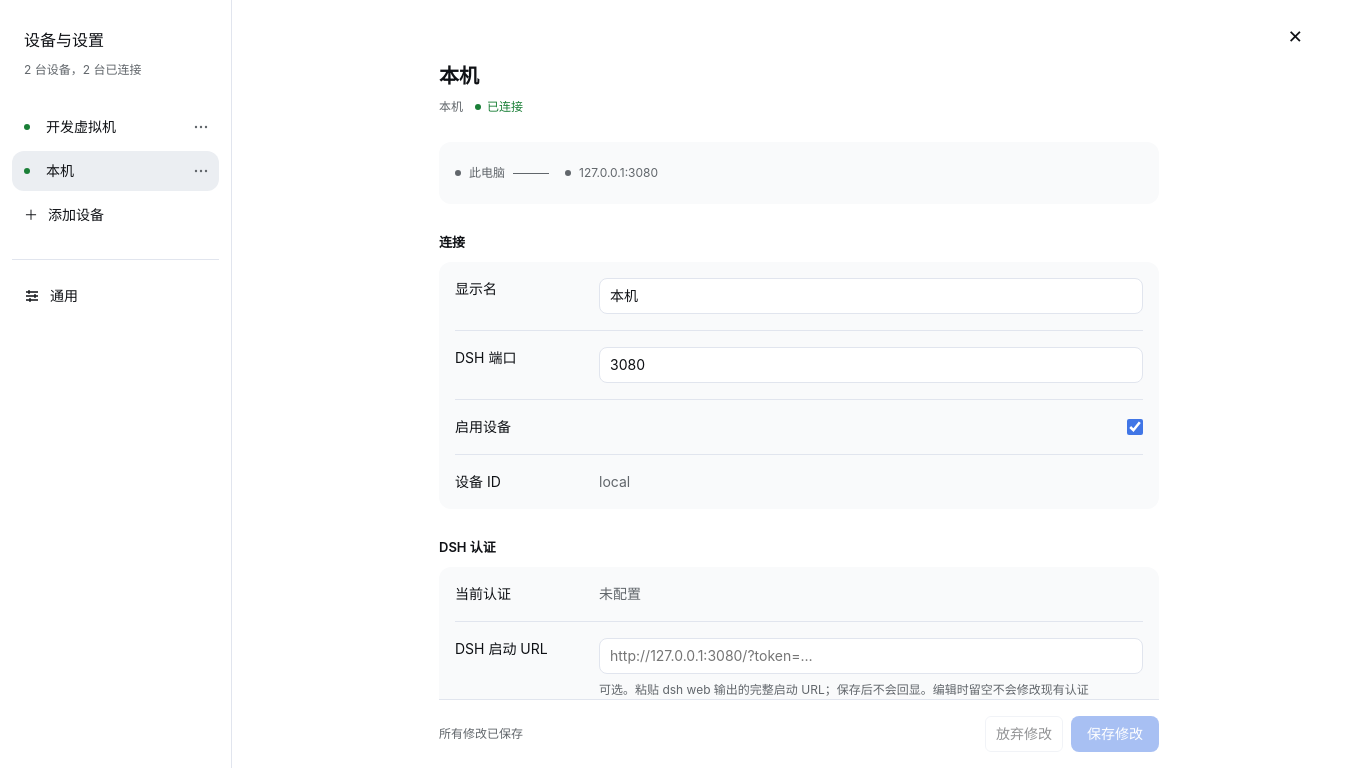
Scenario: device console › defaults to the current workbench device and presents one detail at a time
Check: the field labelled "显示名" holds "本机", box [599,278,1143,314]
Click the button with aria-label "开发虚拟机，已连接" at (100,127), box [12,107,187,147]
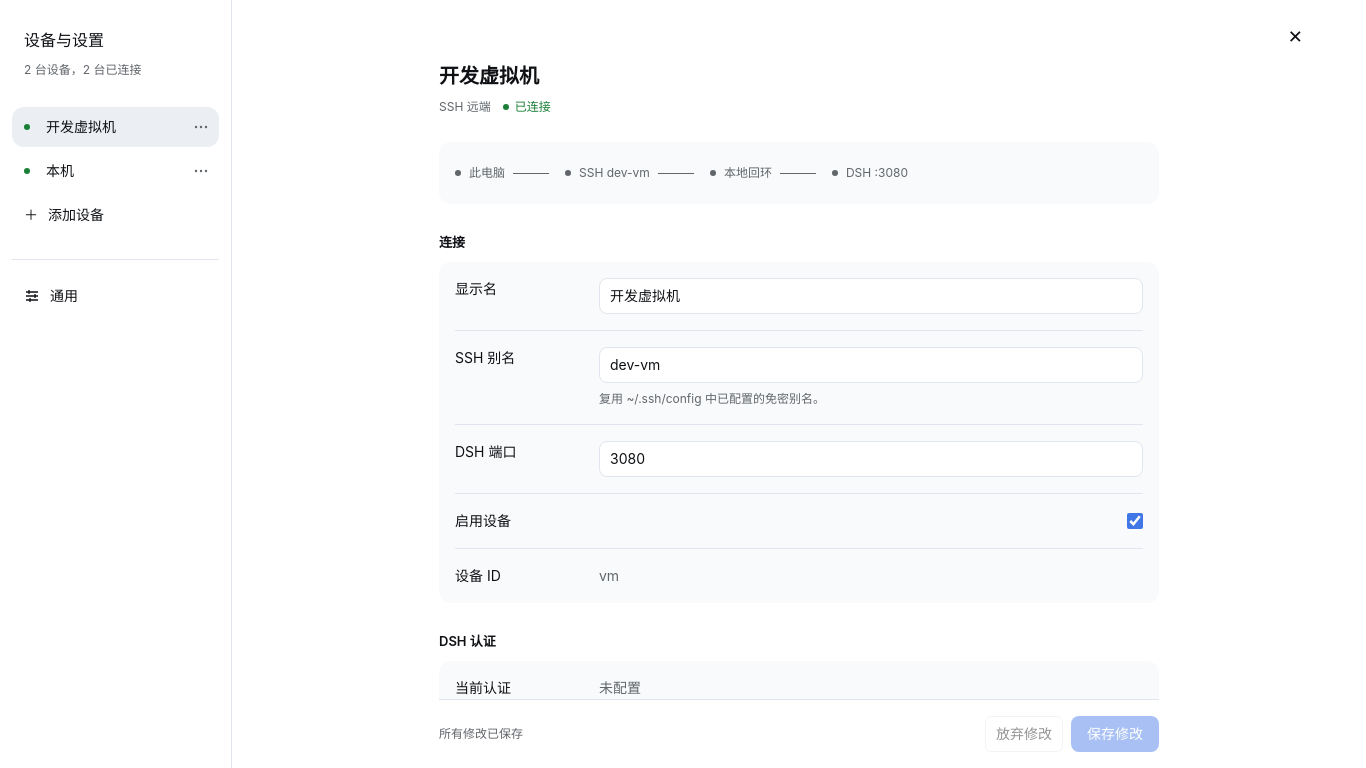
Check: the field labelled "显示名" holds "开发虚拟机", box [599,278,1143,314]
Check: the text "SSH dev-vm" is shown, box [579,162,650,184]
Check: the text "vm" is shown, box [599,567,619,584]
